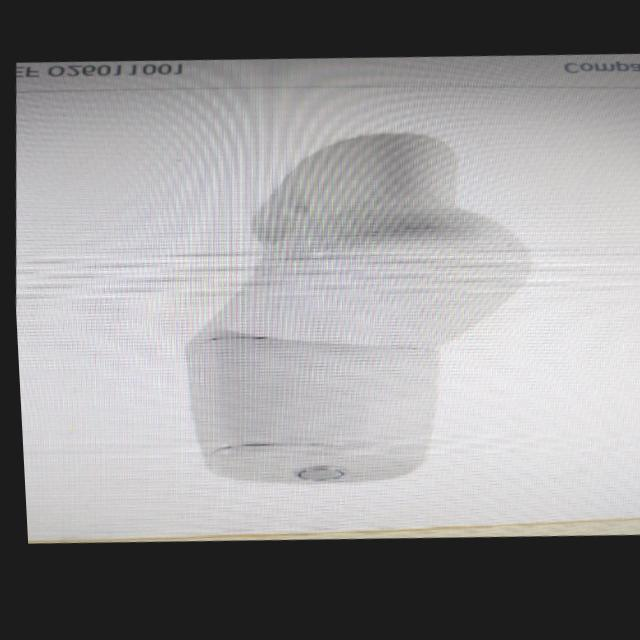toilet: (3, 30, 640, 577), (168, 121, 550, 508)
